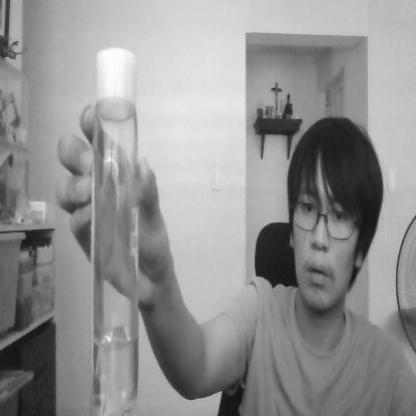Plastic Bottle: (82, 47, 153, 416)
